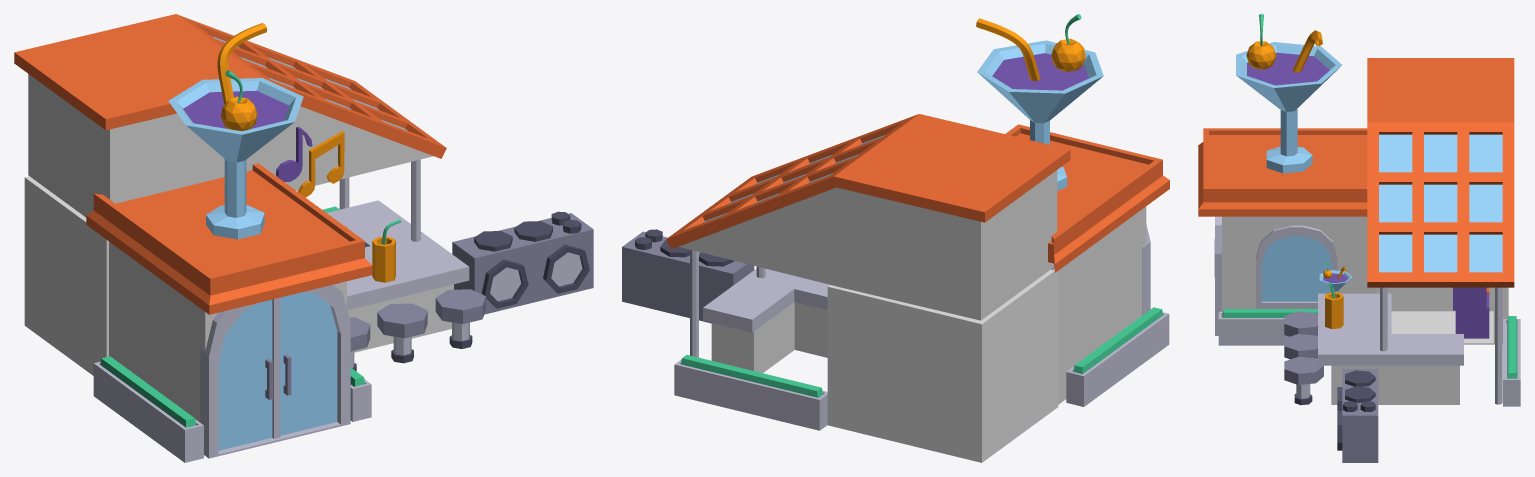
File: bar.glb
The picture shows the model from 3 angles, left to right: view 1: azimuth 30°, elevation 25°; view 2: azimuth 150°, elevation 25°; view 3: azimuth 270°, elevation 25°; orthographic projection. The views are drawn at different scales.
Visible parts, largest first — view 1: Cube.882, Cube.881, Cube.874, Cube.770, Cube.766, Cube.762, Circle.272, Cube.768, Cube.769, Cube.362, Cylinder.034, Cube.767 (+13 smaller); view 2: Cube.766, Cube.874, Cube.881, Cube.762, Cube.882, Cube.769, Cube.767, Cube.1079, Cube.768, Circle.272, Cube.362, Circle.273 (+7 smaller); view 3: Cube.881, Cube.882, Cube.762, Cube.768, Cube.1010, Circle.272, Cube.767, Cube.766, Cube.769, Cube.362, Circle.273, Cube.1079 (+15 smaller).
Part boxes in pixels (<box>): Cube.882: <box>86,163,372,314</box>; Cube.881: <box>14,14,446,158</box>; Cube.874: <box>28,74,433,217</box>; Cube.770: <box>200,284,350,458</box>; Cube.766: <box>24,176,108,375</box>; Cube.762: <box>109,241,346,422</box>; Circle.272: <box>168,78,303,239</box>; Cube.768: <box>327,200,469,310</box>; Cube.769: <box>452,213,593,314</box>; Cube.362: <box>93,361,371,462</box>; Cylinder.034: <box>481,244,589,308</box>; Cube.767: <box>347,284,453,352</box>; Cube.766: <box>827,269,1058,462</box>; Cube.874: <box>678,170,1057,320</box>; Cube.881: <box>666,114,1070,249</box>; Cube.762: <box>1051,206,1146,404</box>; Cube.882: <box>1005,124,1169,272</box>; Cube.769: <box>622,231,754,323</box>; Cube.767: <box>711,302,827,373</box>; Cube.1079: <box>674,359,827,430</box>; Cube.768: <box>703,268,829,332</box>; Circle.272: <box>977,40,1103,190</box>; Cube.362: <box>1066,312,1169,406</box>; Circle.273: <box>992,53,1088,90</box>; Cube.881: <box>1367,58,1514,287</box>; Cube.882: <box>1198,128,1367,216</box>; Cube.762: <box>1222,216,1376,311</box>; Cube.768: <box>1318,293,1463,365</box>; Cube.1010: <box>1256,225,1337,308</box>; Circle.272: <box>1236,42,1341,173</box>; Cube.767: <box>1331,365,1459,404</box>; Cube.766: <box>1377,287,1508,344</box>; Cube.769: <box>1342,369,1378,462</box>; Cube.362: <box>1218,311,1317,345</box>; Circle.273: <box>1247,52,1329,85</box>; Cube.1079: <box>1503,319,1520,406</box>.
Bounding box in the file's own units: 6.86 × 4.86 × 4.9.
